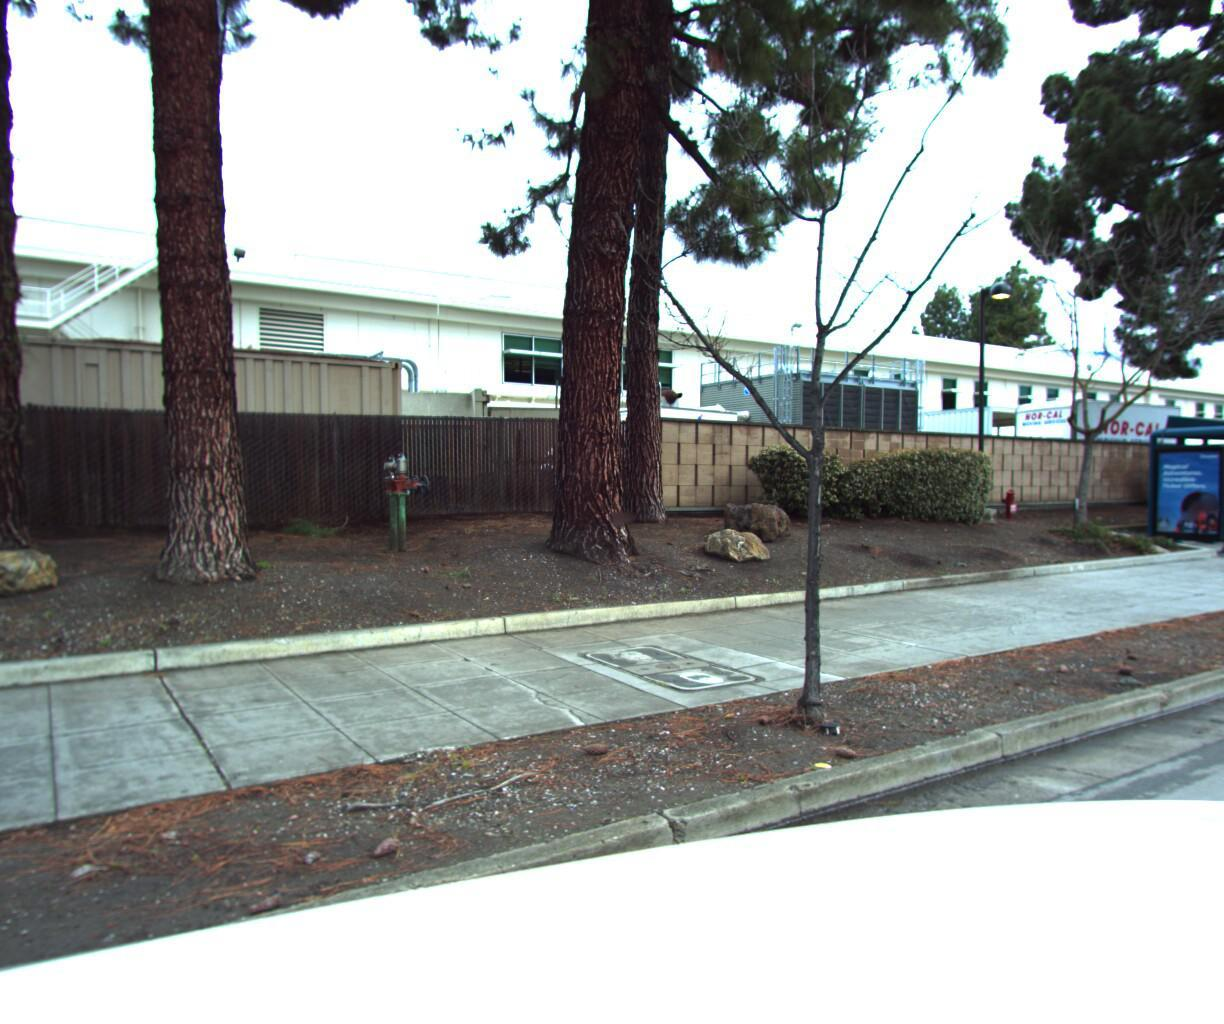truck: (147, 349, 642, 526), (977, 389, 1199, 495)
